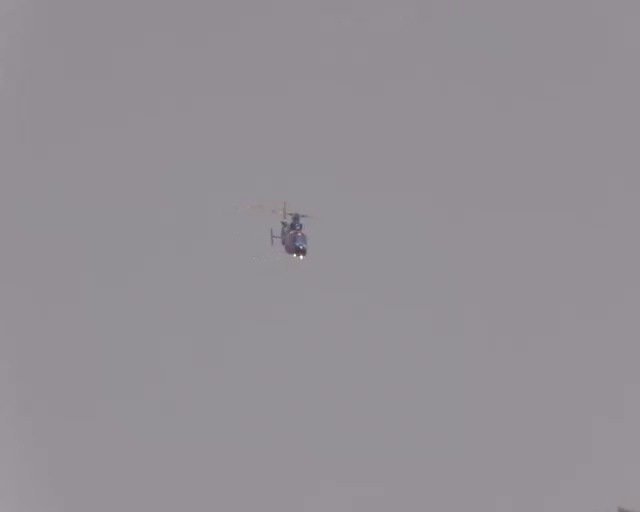HELICOPTER: (270, 199, 312, 260)
